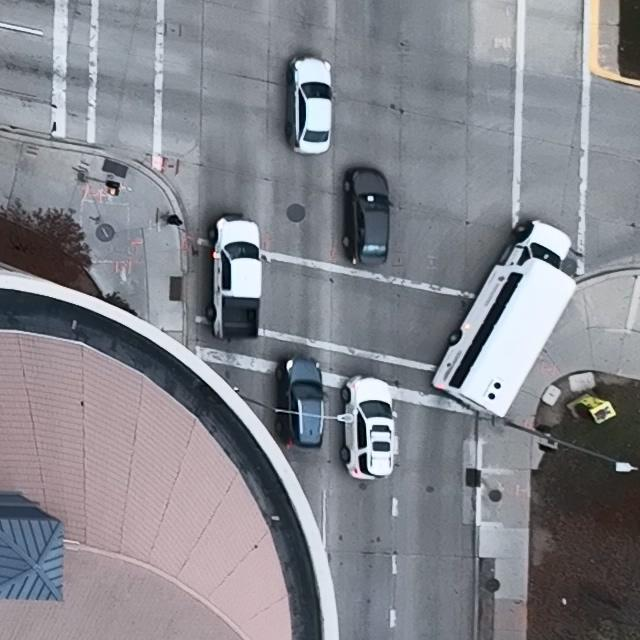car: (433, 219, 577, 418), (209, 217, 269, 340), (341, 374, 398, 479), (343, 167, 395, 268), (274, 356, 327, 449), (289, 55, 335, 155)
